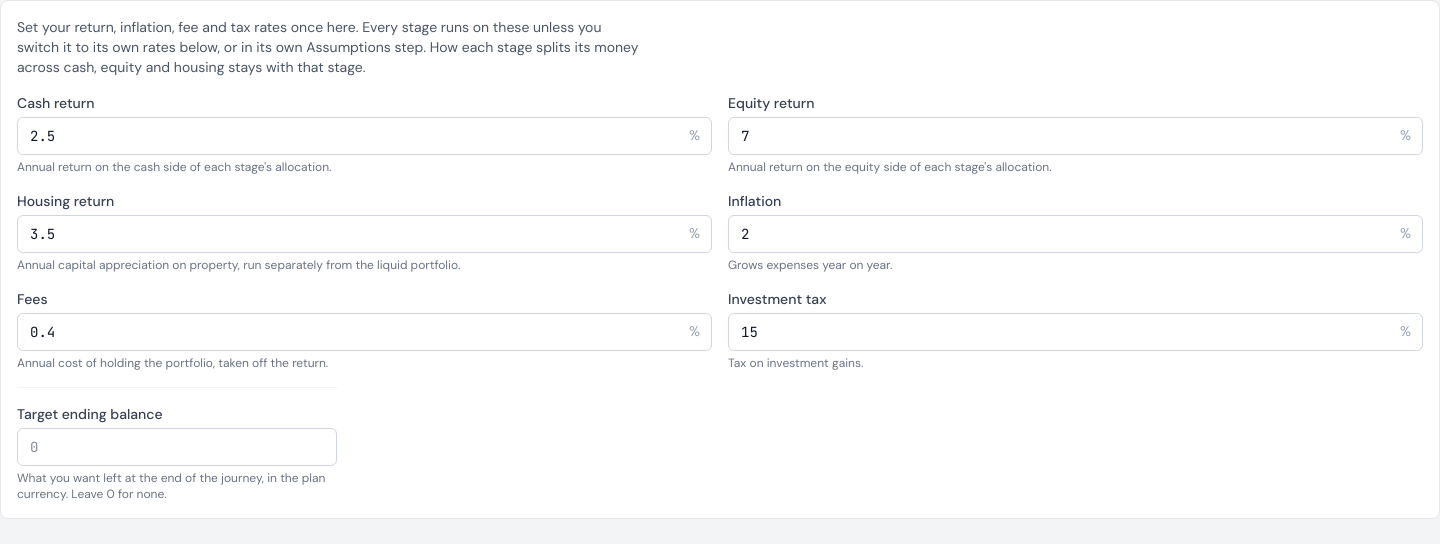
JourneyAssumptionsSection › target ending balance › rejects an amount at or beyond the upper bound, and saves nothing
Type "1000000000000" into the number field labelled "Target ending balance".
click(177, 447); type("1000000000000")  # box [17,428,337,466]
Wait 1000 ms
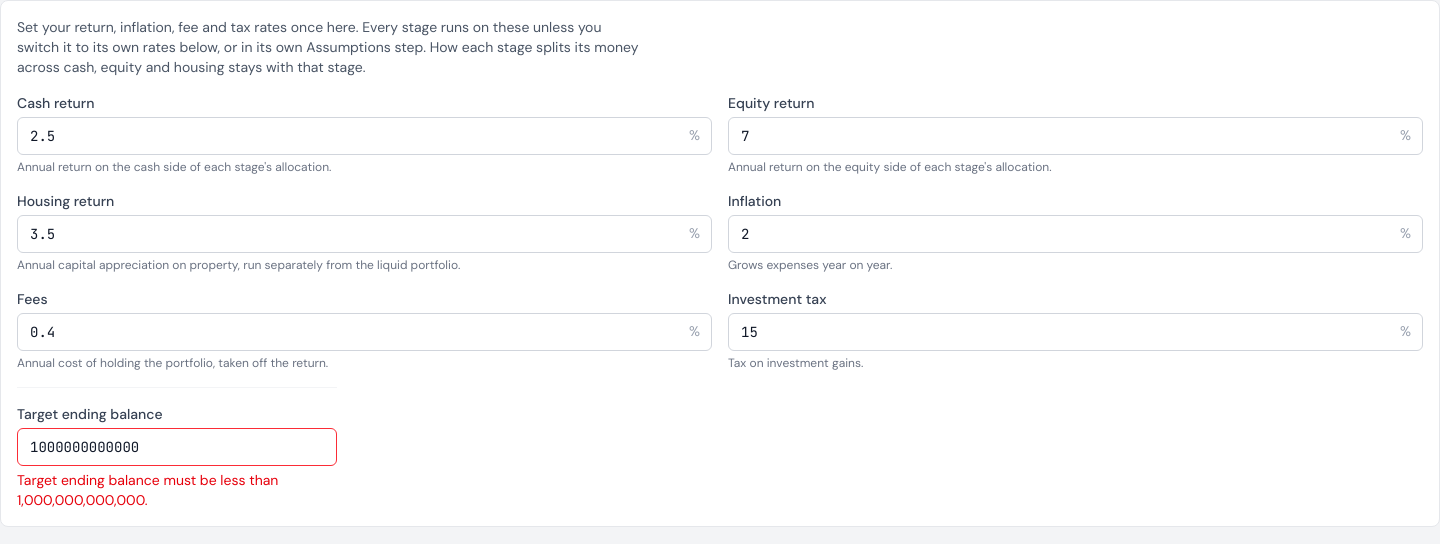
Now the text "Target ending balance must be less than 1,000,000,000,000." is shown, box [17,471,278,509]
